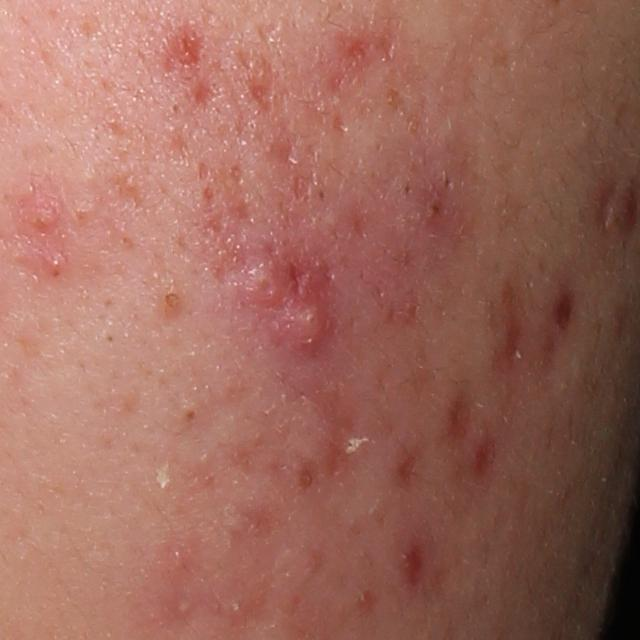atrophic_scar: (227, 43, 277, 117), (548, 272, 583, 349), (216, 163, 256, 226), (493, 303, 522, 374), (266, 119, 297, 179), (190, 64, 222, 111), (593, 181, 619, 237), (282, 250, 312, 294), (291, 172, 323, 205), (199, 208, 225, 234), (329, 111, 350, 135), (201, 185, 219, 212), (196, 159, 208, 182)
comedo: (158, 280, 192, 313), (70, 201, 98, 228), (178, 402, 203, 425), (296, 464, 317, 491), (167, 100, 185, 119), (100, 330, 119, 347)
papule: (272, 294, 338, 352), (222, 260, 284, 304), (13, 193, 65, 239), (40, 249, 68, 278), (467, 442, 488, 477)
